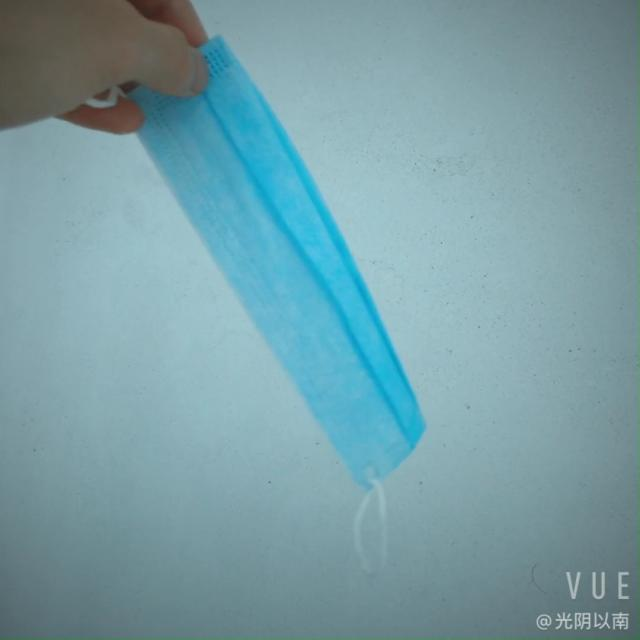non-organic waste: (106, 19, 428, 530)
